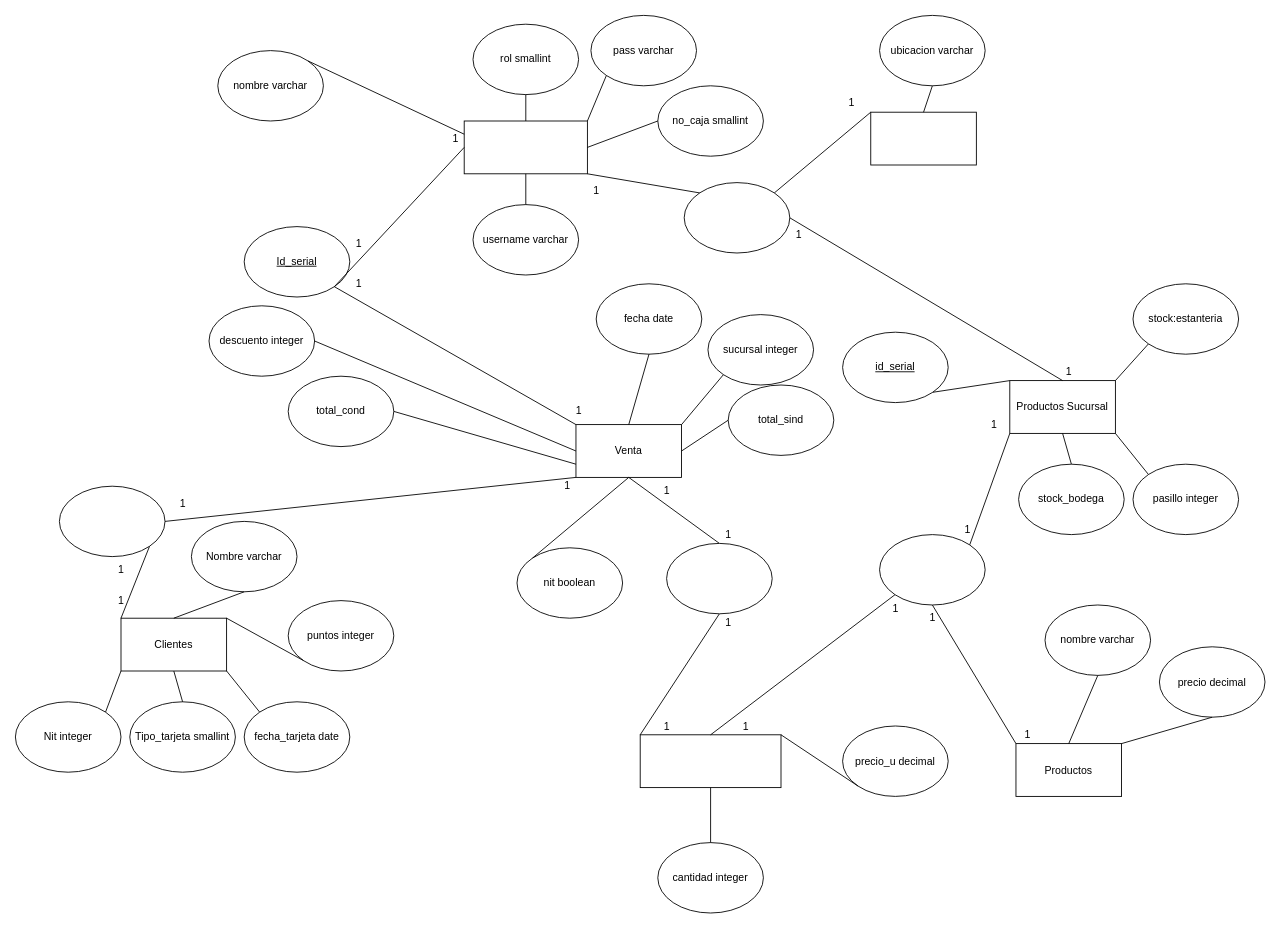
The diagram is 1280 pixels wide and 928 high, and some of its shapes have lost their labels. Each missing label, with the centre of its shape:
"Detalle Venta" goes at (710,761).
"Empleados" goes at (525,147).
"Id_clientes" goes at (112,521).
"id_producto" goes at (932,569).
"id_surcursal integer" goes at (736,217).
"no_factura" goes at (719,578).
"Sucursales" goes at (923,138).
